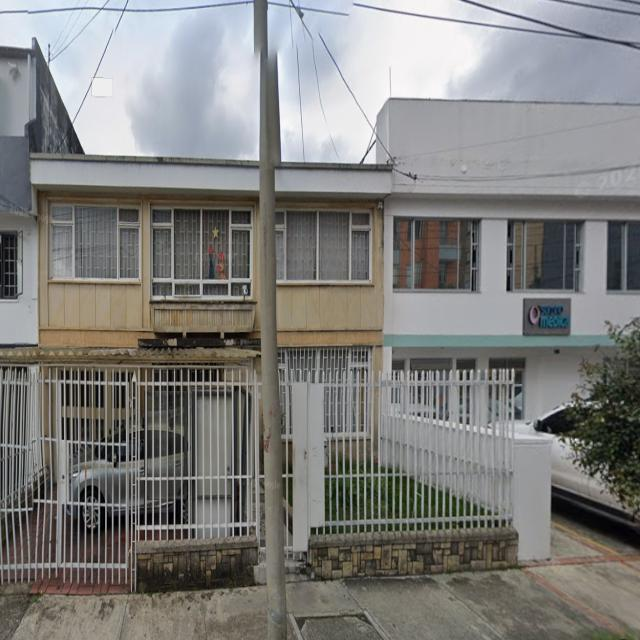fachada: (377, 100, 639, 418), (31, 155, 260, 504), (0, 39, 83, 346)
poste: (254, 0, 286, 639)
